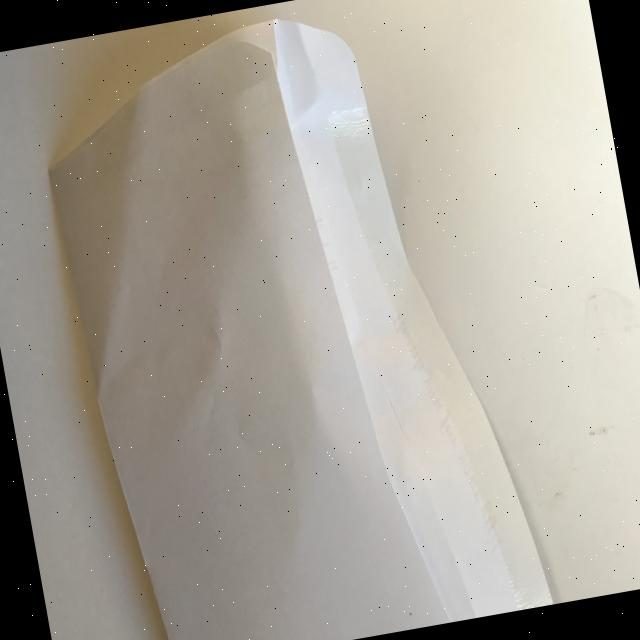paper: (27, 0, 554, 640)
